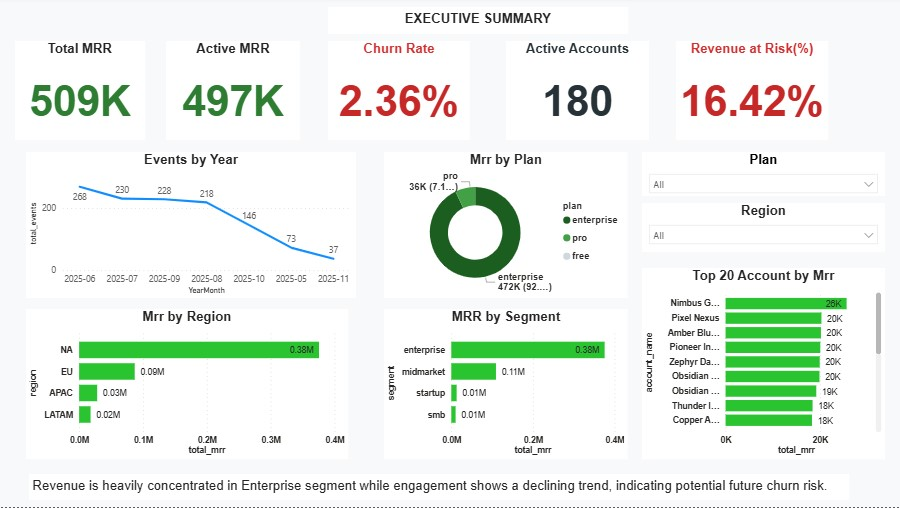

The dashboard page shown, as its layout file describes it:
{"tool":"powerbi","page":{"name":"EXECUTIVE SUMMARY","canvas":[1280,720],"ordinal":0},"visuals":[{"type":"card","title":"Total MRR","fields":{"Values":["measure.total_mrr"]},"box":[24,62.1,183.5,139.8],"z":0},{"type":"card","title":"Active Accounts","fields":{"Values":["measure.active_accounts"]},"box":[717.2,62.1,201.9,139.8],"z":1000},{"type":"card","title":"Active MRR","fields":{"Values":["measure.active_mrr"]},"box":[237.2,62.1,189.2,139.8],"z":2000},{"type":"card","title":"Churn Rate","fields":{"Values":["measure.Churn_Rate %"]},"box":[465.9,62.1,200.5,139.8],"z":3000},{"type":"lineChart","title":"Events by Year","fields":{"Y":["measure.total_events"],"Category":["date_table.YearMonth"]},"box":[39.5,218.8,465.9,206.1],"z":4000},{"type":"barChart","title":"MRR by Segment","fields":{"Category":["accounts.segment"],"Y":["measure.total_mrr"]},"box":[544.9,440.5,344.5,211.8],"z":5000},{"type":"donutChart","title":"Mrr by Plan","fields":{"Y":["measure.total_mrr"],"Category":["subscriptions.plan"]},"box":[544.9,218.8,344.5,206.1],"z":6000},{"type":"barChart","title":"Mrr by Region","fields":{"Y":["measure.total_mrr"],"Category":["accounts.region"]},"box":[39.5,440.5,454.6,211.8],"z":7000},{"type":"slicer","title":"Plan","fields":{"Values":["accounts.plan"]},"box":[909.2,218.8,343.1,62.1],"z":8000},{"type":"slicer","title":"Region","fields":{"Values":["accounts.region"]},"box":[909.2,290.8,343.1,69.2],"z":10000},{"type":"textbox","box":[465.9,14.1,423.5,38.1],"z":12000},{"type":"textbox","box":[43.8,673.4,1157.6,36.7],"z":13000},{"type":"card","title":"Revenue at Risk(%)","fields":{"Values":["measure.Revenue at risk %"]},"box":[957.2,62.1,214.6,139.8],"z":13001},{"type":"barChart","title":"Top 20 Account by Mrr","fields":{"Category":["accounts.account_name"],"Y":["measure.total_mrr"]},"box":[909.2,382.6,343.1,269.6],"z":13002}]}

Visuals, with their boxes in screenshot pixels (x1, y1, x2, y2), scaled from the page's 1280x720 canvas onto the 900x508 screenshot:
"Total MRR" card: pyautogui.locateOnScreen(17, 44, 146, 142)
"Active Accounts" card: pyautogui.locateOnScreen(504, 44, 646, 142)
"Active MRR" card: pyautogui.locateOnScreen(167, 44, 300, 142)
"Churn Rate" card: pyautogui.locateOnScreen(328, 44, 469, 142)
"Events by Year" lineChart: pyautogui.locateOnScreen(28, 154, 355, 300)
"MRR by Segment" barChart: pyautogui.locateOnScreen(383, 311, 625, 460)
"Mrr by Plan" donutChart: pyautogui.locateOnScreen(383, 154, 625, 300)
"Mrr by Region" barChart: pyautogui.locateOnScreen(28, 311, 347, 460)
"Plan" slicer: pyautogui.locateOnScreen(639, 154, 881, 198)
"Region" slicer: pyautogui.locateOnScreen(639, 205, 881, 254)
textbox: pyautogui.locateOnScreen(328, 10, 625, 37)
textbox: pyautogui.locateOnScreen(31, 475, 845, 501)
"Revenue at Risk(%)" card: pyautogui.locateOnScreen(673, 44, 824, 142)
"Top 20 Account by Mrr" barChart: pyautogui.locateOnScreen(639, 270, 881, 460)
